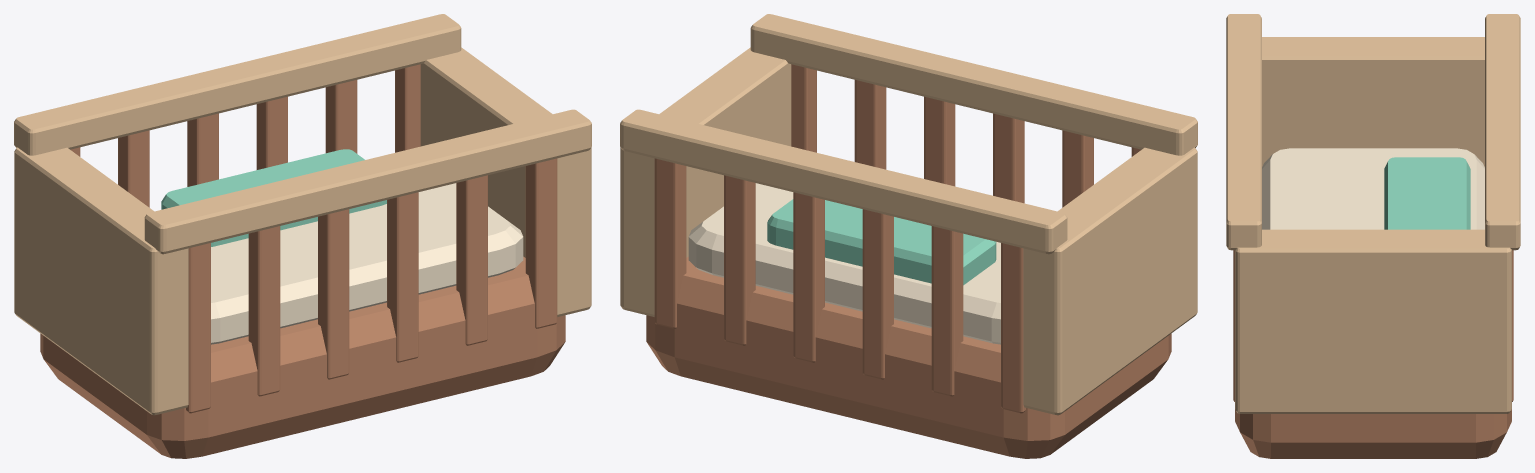
The model's file is baby_bed.glb.
3 renders of one model, left to right at view 1: azimuth 30°, elevation 25°; view 2: azimuth 150°, elevation 25°; view 3: azimuth 270°, elevation 25°, orthographic.
Visible parts, largest first — view 1: model; view 2: model; view 3: model.
Boxes of the visible parts, <box> form: model: <box>14,14,591,458</box>; model: <box>620,14,1197,458</box>; model: <box>1226,14,1520,458</box>.
Size of the model in its own units: 1.2 by 0.65 by 0.7.
